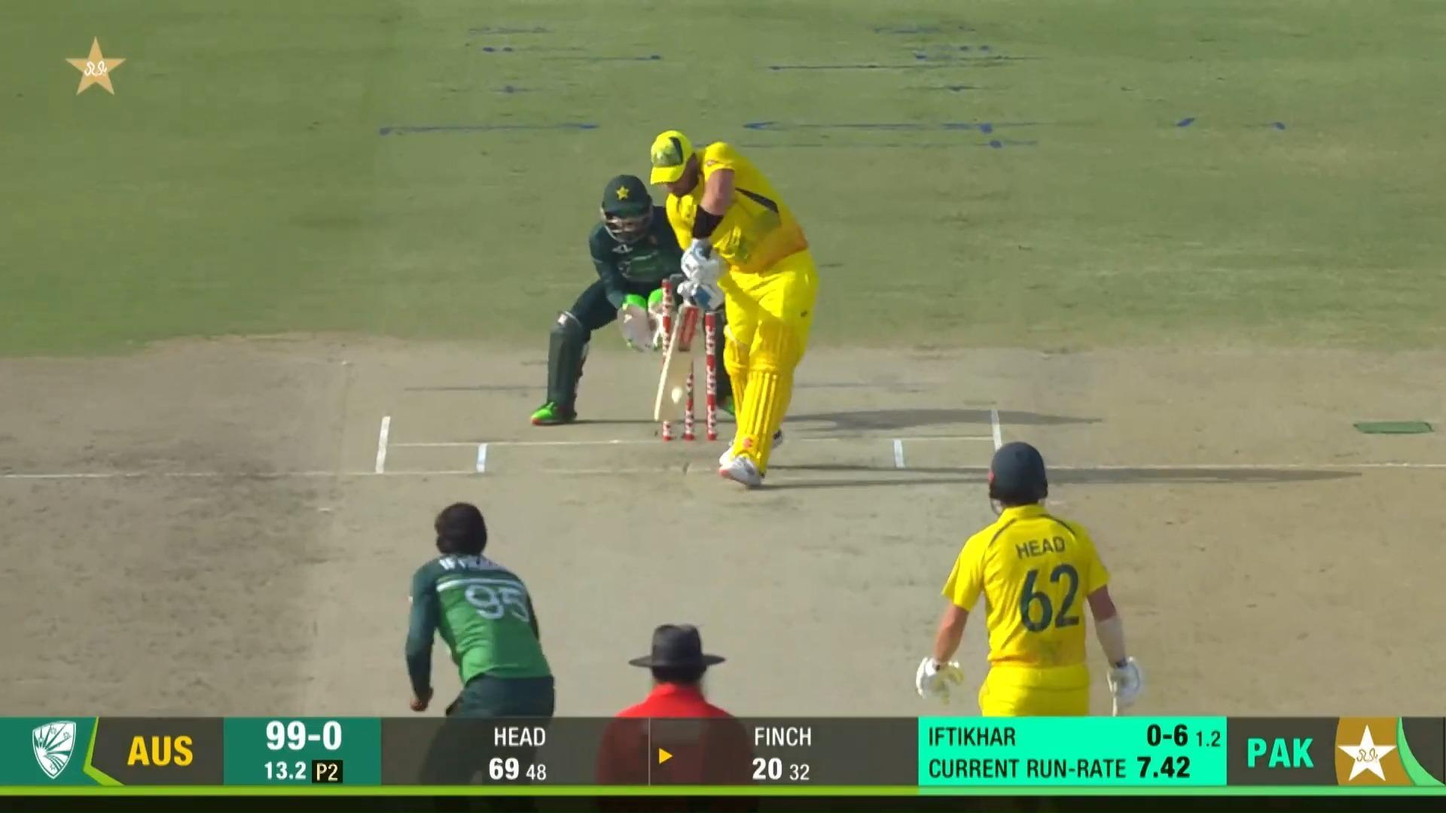BM 1: (648, 129, 819, 487)
BO: (402, 498, 560, 813)
